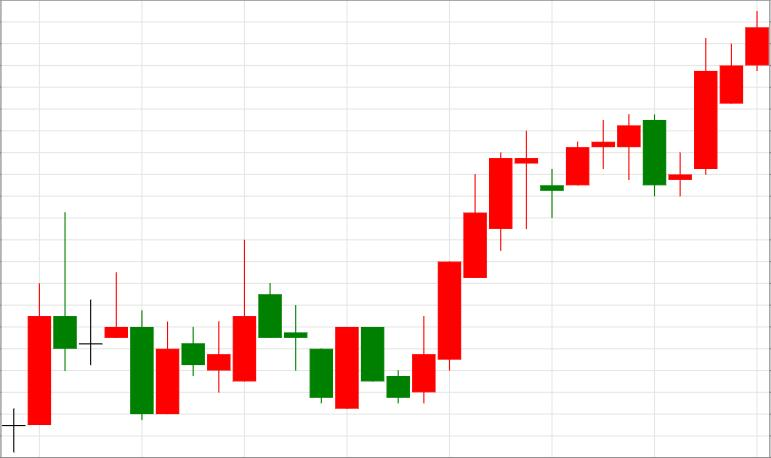bullish_engulfing_rise: (258, 283, 359, 409)
